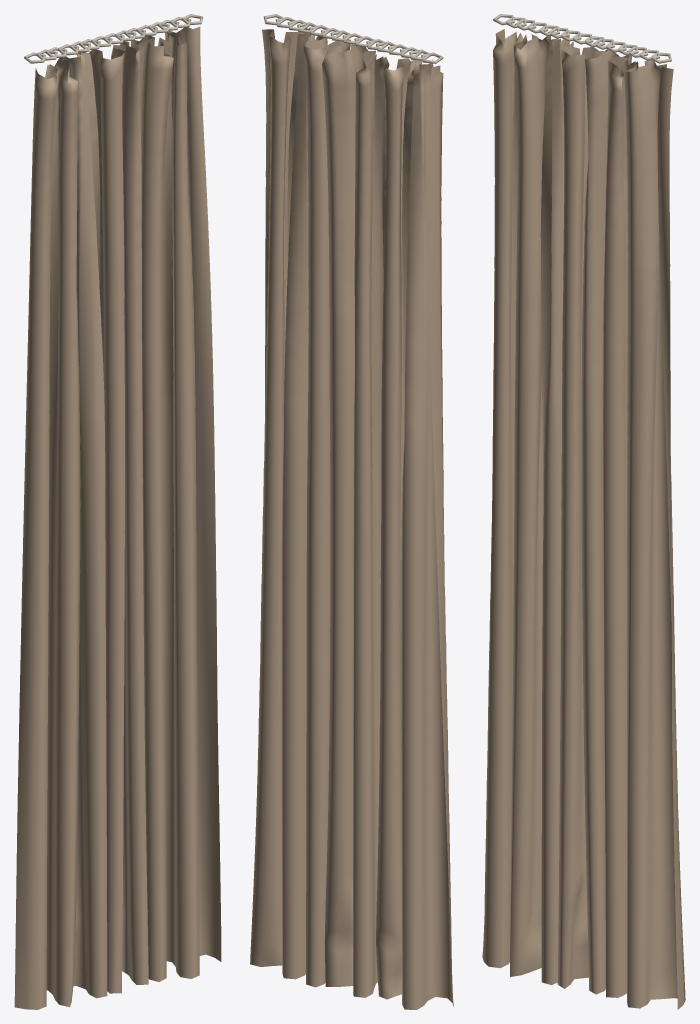
The model's file is curtain_rings_w100_g45_55_lod0.glb.
3 views of the same model, side by side, from view 1: azimuth 30°, elevation 25°; view 2: azimuth 150°, elevation 25°; view 3: azimuth 330°, elevation 25° (orthographic).
Parts seen in each view (by area): view 1: curtain_rings_g45_55_lod0_fabric, curtain_rings_g45_55_lod0_rings; view 2: curtain_rings_g45_55_lod0_fabric, curtain_rings_g45_55_lod0_rings; view 3: curtain_rings_g45_55_lod0_fabric, curtain_rings_g45_55_lod0_rings.
Boxes of the visible parts, left/top/right/bottom form: curtain_rings_g45_55_lod0_fabric: left=14, top=26, right=221, bottom=1009; curtain_rings_g45_55_lod0_rings: left=24, top=14, right=202, bottom=63; curtain_rings_g45_55_lod0_fabric: left=250, top=27, right=453, bottom=1009; curtain_rings_g45_55_lod0_rings: left=263, top=14, right=443, bottom=63; curtain_rings_g45_55_lod0_fabric: left=482, top=29, right=685, bottom=1009; curtain_rings_g45_55_lod0_rings: left=493, top=14, right=671, bottom=63.
Size of the model in its own units: 0.5673 by 2.55 by 0.1428.
